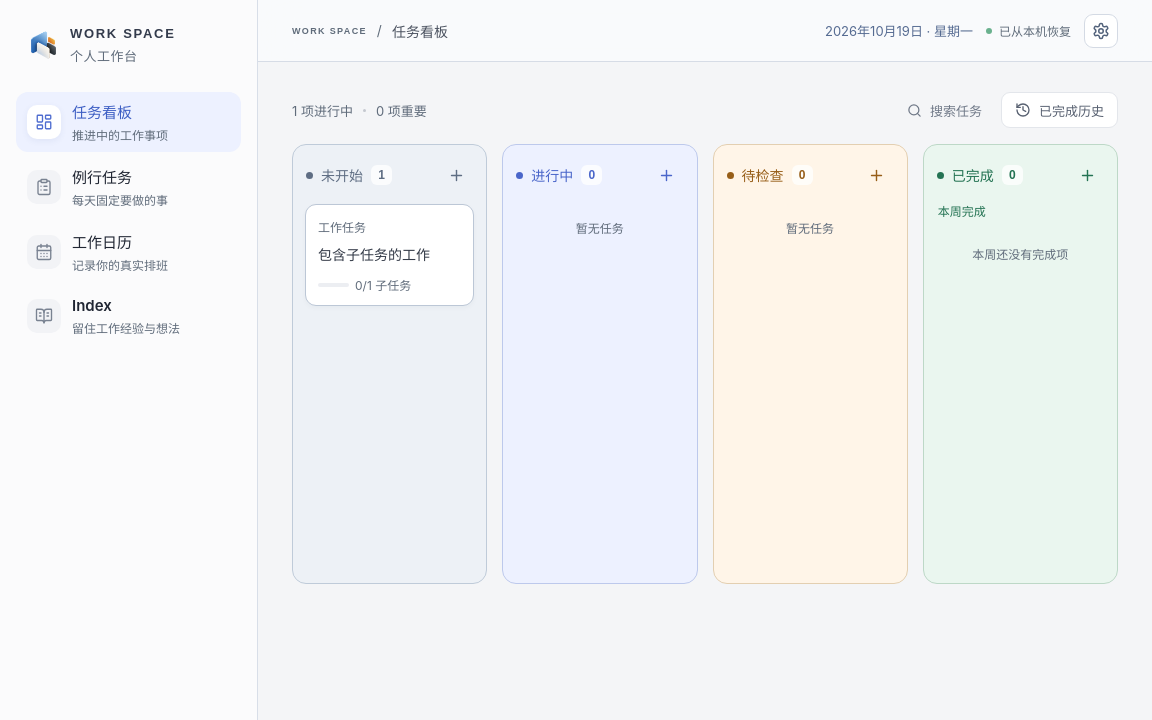
Test: desktop data backup experience › confirms subtask removal and leaves the subtask intact when canceled
This screenshot has width=1152, height=720.
Click the button with aria-label "打开任务详情：包含子任务的工作".
click(390, 242)  # box [318, 218, 461, 266]
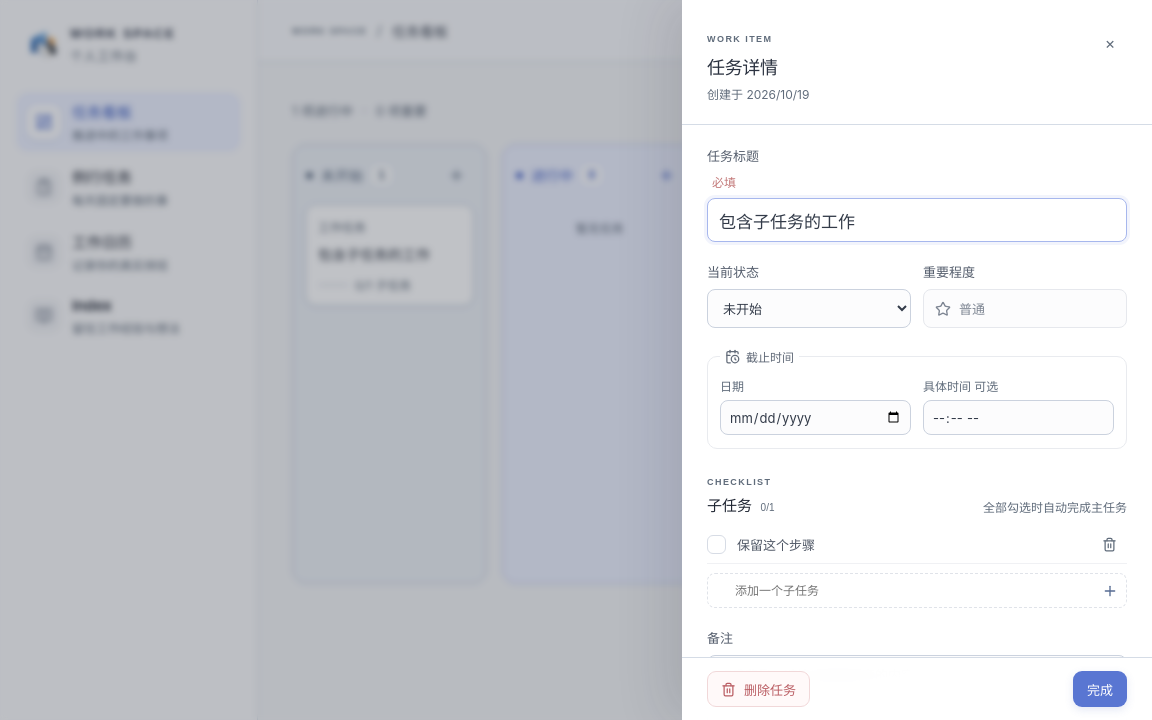
Click the button named "删除子任务：保留这个步骤".
click(1109, 545)  # box [1095, 531, 1123, 559]
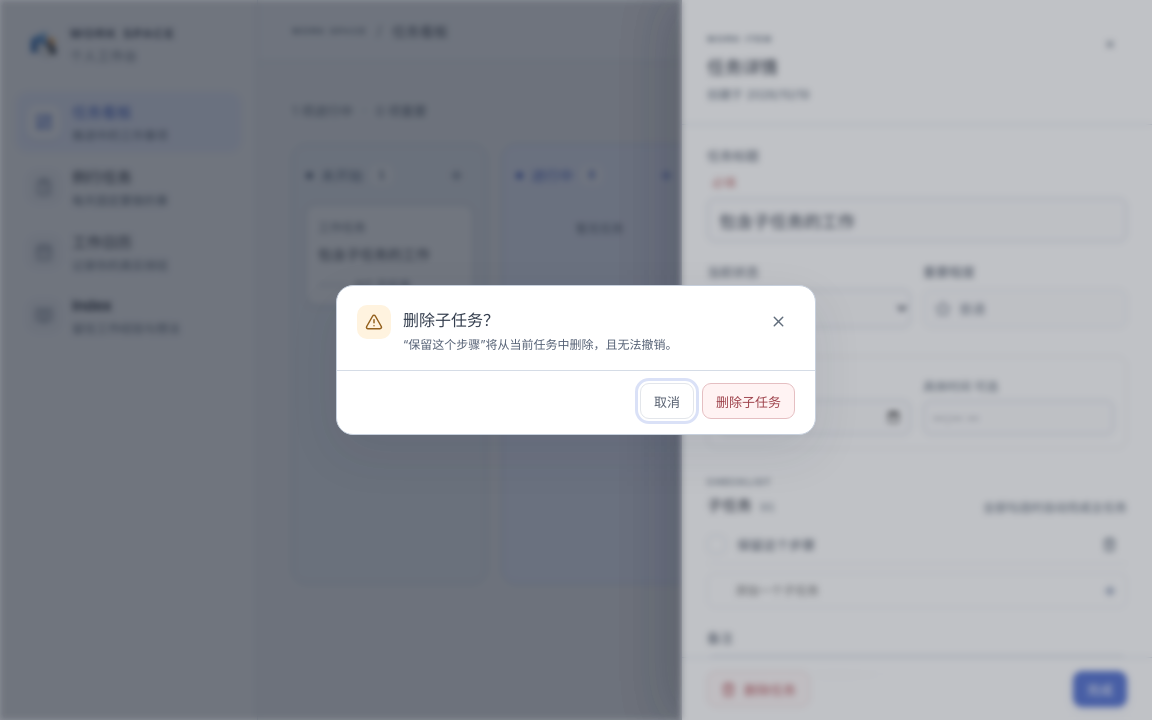
Click the button "取消".
click(667, 401)  # box [640, 383, 694, 419]
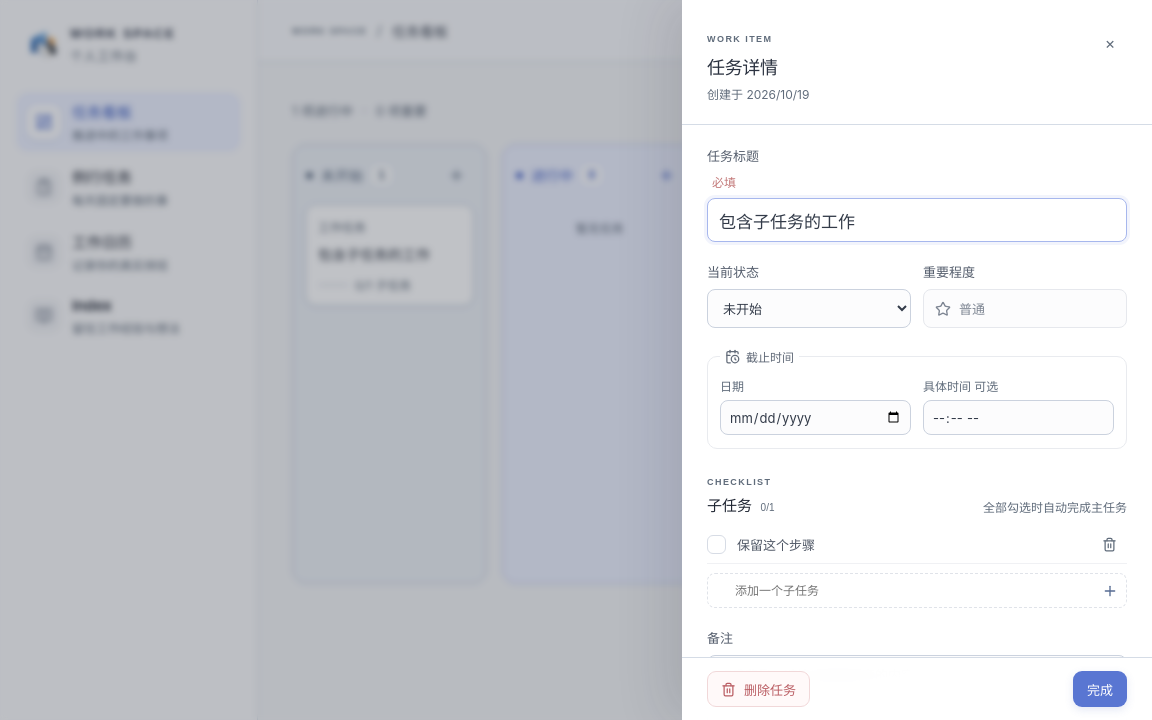
Check: the button named "删除子任务：保留这个步骤" is shown
Check: the heading "删除子任务？" is gone
Click the button named "删除子任务：保留这个步骤".
click(1109, 545)  # box [1095, 531, 1123, 559]
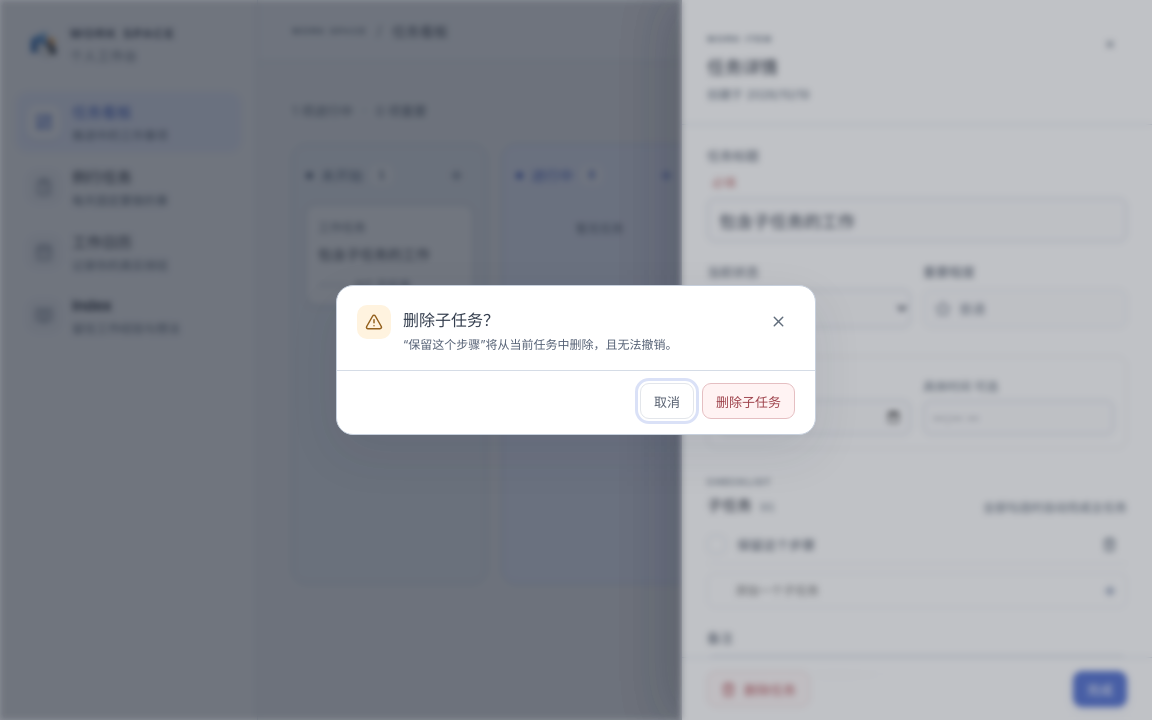
Click the button "删除子任务".
click(748, 401)  # box [702, 383, 795, 419]
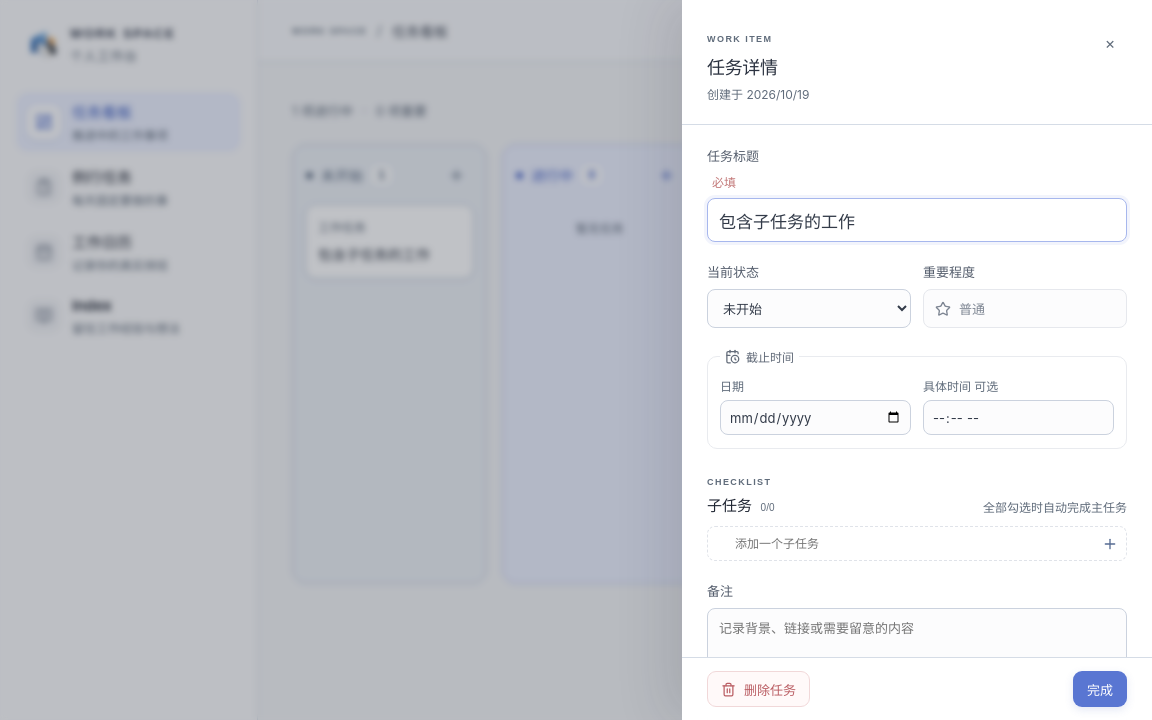
Check: the button "删除子任务：保留这个步骤" is gone
